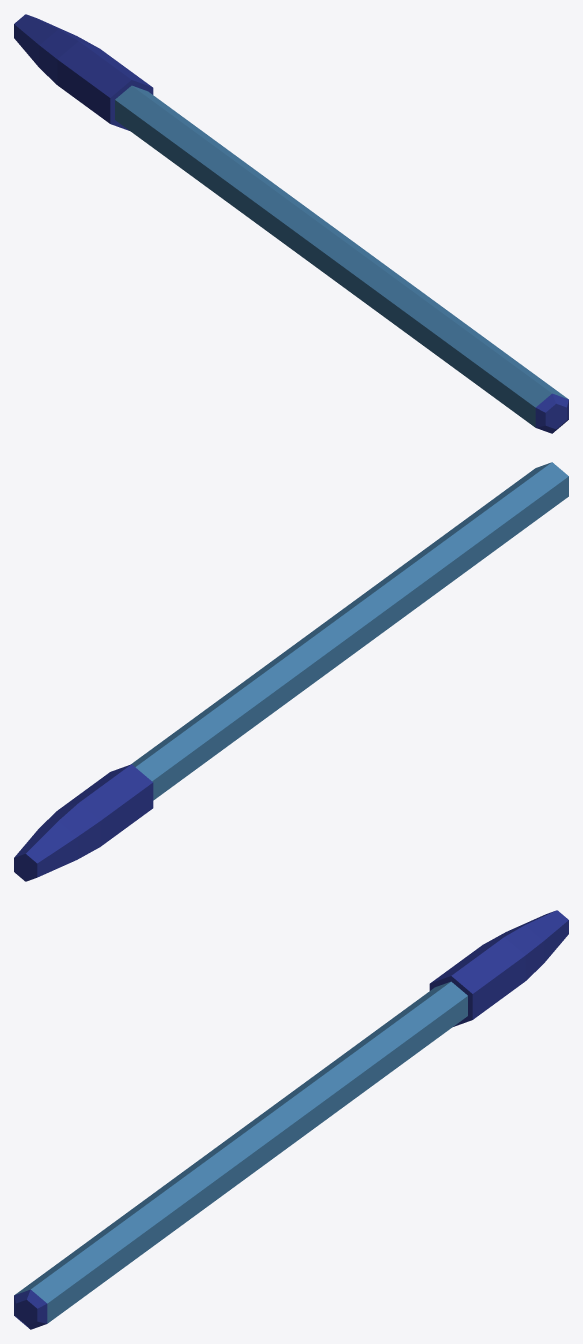
File: H_Pen_Blue.fbx
3 views of the same model, one above another, from view 1: azimuth 30°, elevation 25°; view 2: azimuth 150°, elevation 25°; view 3: azimuth 330°, elevation 25° (orthographic).
Visible parts, largest first — view 1: H_Pen_Blue; view 2: H_Pen_Blue; view 3: H_Pen_Blue.
Boxes of the visible parts, x1,y1,x2,y2 form: H_Pen_Blue: (14,14,568,433); H_Pen_Blue: (14,462,568,881); H_Pen_Blue: (14,910,568,1329).
Bounding box in the file's own units: 5.08 × 109 × 5.87.
